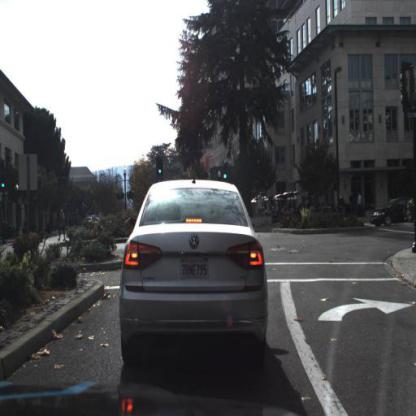car: (112, 181, 274, 373), (370, 198, 416, 231)
pedestrian: (57, 207, 69, 243), (58, 209, 69, 246)
trafficLight-Green: (157, 154, 166, 177), (1, 174, 9, 197), (1, 175, 9, 196), (222, 162, 230, 182)
trafficLight-Red: (158, 155, 164, 176)
